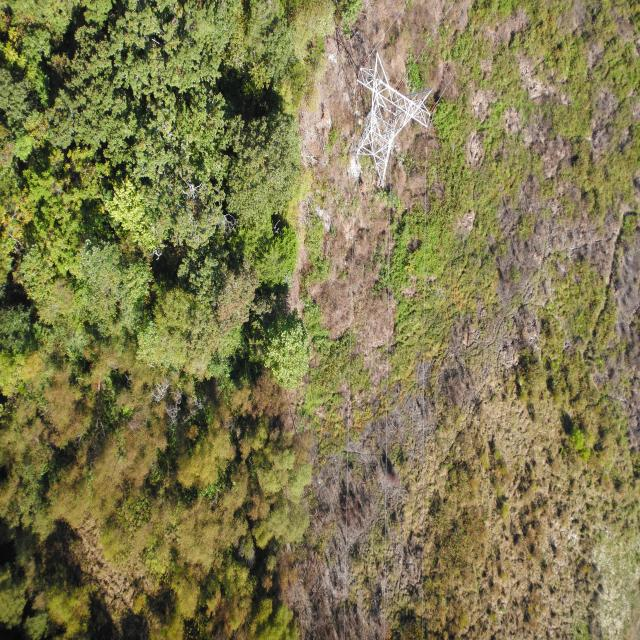Area of Interest: (9, 369, 287, 636)
